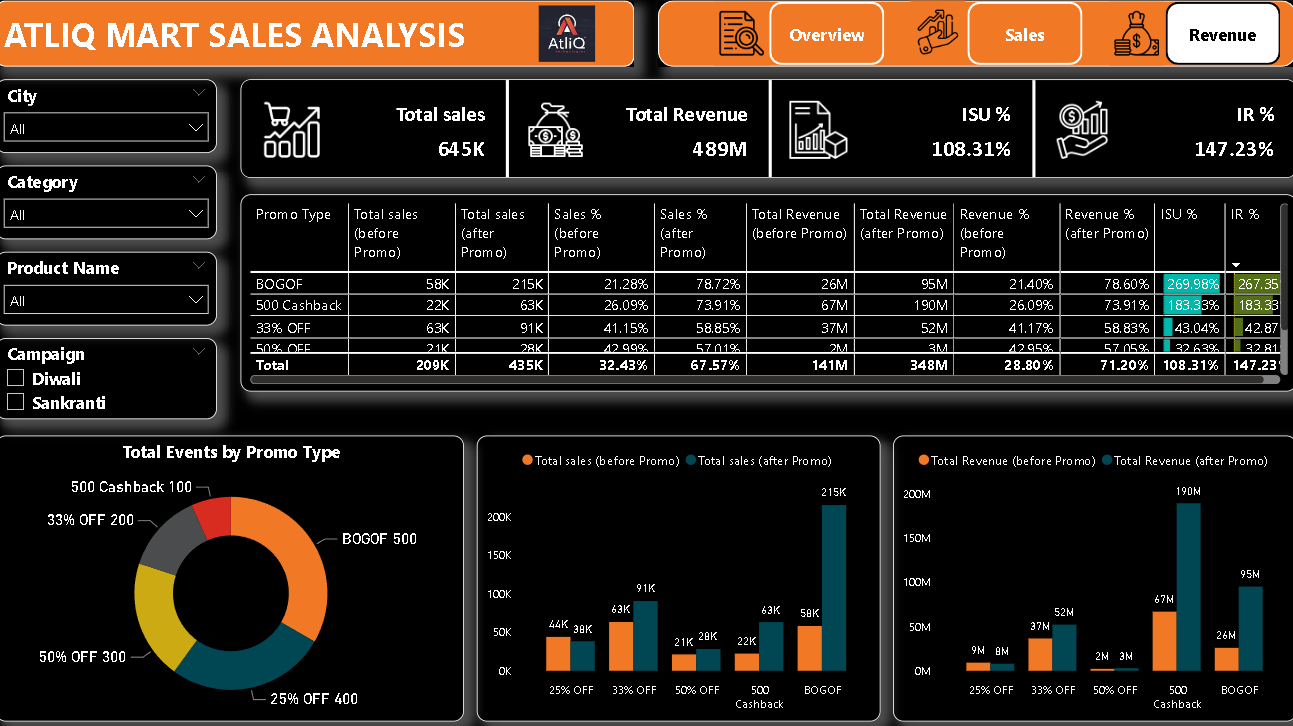

The dashboard page shown, as its layout file describes it:
{"tool":"powerbi","page":{"name":"Revenue","canvas":[1280,720],"ordinal":2},"visuals":[{"type":"shape","box":[651.3,12.1,616.3,63.9],"z":0,"group":"g1"},{"type":"clusteredColumnChart","fields":{"Category":["fact_events.promo_type"],"Y":["Key Measures.Total Revenue(before promo)","Key Measures.Total Revenue(after promo)"]},"box":[878,431.8,389.5,276.2],"z":0},{"type":"shape","box":[12.1,12.1,616.3,63.9],"z":1000,"group":"g2"},{"type":"slicer","fields":{"Values":["dim_stores.city"]},"box":[12.1,88,213.5,71.2],"z":1000},{"type":"slicer","fields":{"Values":["dim_products.category"]},"box":[12.1,171.3,213.5,71.2],"z":2000},{"type":"slicer","fields":{"Values":["dim_campaigns.campaign_name"]},"box":[12.1,337.7,213.5,78.4],"z":3000},{"type":"image","box":[516.2,12.1,94.1,63.9],"z":4000,"group":"g2"},{"type":"slicer","fields":{"Values":["dim_products.product_name"]},"box":[12.1,254.5,213.5,71.2],"z":4000},{"type":"tableEx","fields":{"Values":["fact_events.promo_type","Key Measures.Total sales (before Promo)","Key Measures.Total sales (after Promo)","Key Measures.Sales % (before Promo)","Key Measures.Sales % (after Promo)","Key Measures.Total Revenue (before Promo)","Key Measures.Total Revenue (after Promo)","Key Measures.Revenue % (before Promo)","Key Measures.Revenue % (after Promo)","Key Measures.ISU %","Key Measures.IR %"]},"box":[248.4,199,1019.1,190.6],"z":5000},{"type":"clusteredColumnChart","fields":{"Y":["Key Measures.Total sales(before promo)","Key Measures.Total sales(after promo)"],"Category":["fact_events.promo_type"]},"box":[476.4,431.8,389.5,276.2],"z":6000},{"type":"image","box":[705.6,13.3,53.1,61.5],"z":7000,"group":"g1"},{"type":"donutChart","title":"Total Events by Promo Type","fields":{"Category":["fact_events.promo_type"],"Y":["Key Measures.Total Events"]},"box":[12.1,431.8,452.3,276.2],"z":7000},{"type":"group","id":"g1","title":"Group 1","box":[651.3,12.1,616.3,63.9],"z":8000},{"type":"image","box":[1086.7,13.3,53.1,61.5],"z":8000,"group":"g1"},{"type":"image","box":[894.9,12.1,53.1,61.5],"z":9000,"group":"g1"},{"type":"pageNavigator","box":[758.6,13.3,494.5,61.5],"z":9000},{"type":"group","id":"g2","title":"Group 2","box":[12.1,12.1,616.3,63.9],"z":10000},{"type":"cardVisual","fields":{"Data":["Key Measures.Total sales","Key Measures.Total Revenue","Key Measures.ISU %","Key Measures.IR %"]},"box":[248.4,88,1019.1,95.3],"z":11000}]}

Visuals, with their boxes in screenshot pixels (x1, y1, x2, y2), scaled from the page's 1280x720 canvas onto the 1293x726 screenshot:
shape: 658/12/1280/77
clusteredColumnChart - fact_events.promo_type x Key Measures.Total Revenue(before promo): 887/435/1280/714
shape: 12/12/635/77
slicer - dim_stores.city: 12/89/228/161
slicer - dim_products.category: 12/173/228/245
slicer - dim_campaigns.campaign_name: 12/341/228/420
image: 521/12/616/77
slicer - dim_products.product_name: 12/257/228/328
tableEx - fact_events.promo_type x Key Measures.Total sales (before Promo): 251/201/1280/393
clusteredColumnChart - Key Measures.Total sales(before promo) x Key Measures.Total sales(after promo): 481/435/875/714
image: 713/13/766/75
"Total Events by Promo Type" donutChart: 12/435/469/714
"Group 1" group: 658/12/1280/77
image: 1098/13/1151/75
image: 904/12/958/74
pageNavigator: 766/13/1266/75
"Group 2" group: 12/12/635/77
cardVisual - Key Measures.Total sales x Key Measures.Total Revenue: 251/89/1280/185
